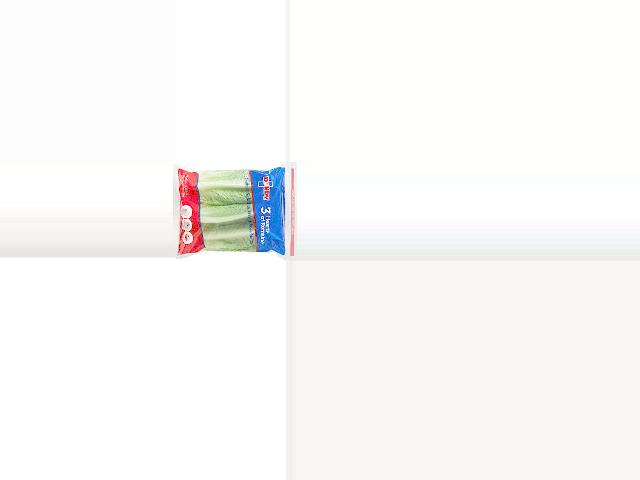lettuce: (173, 162, 290, 256)
